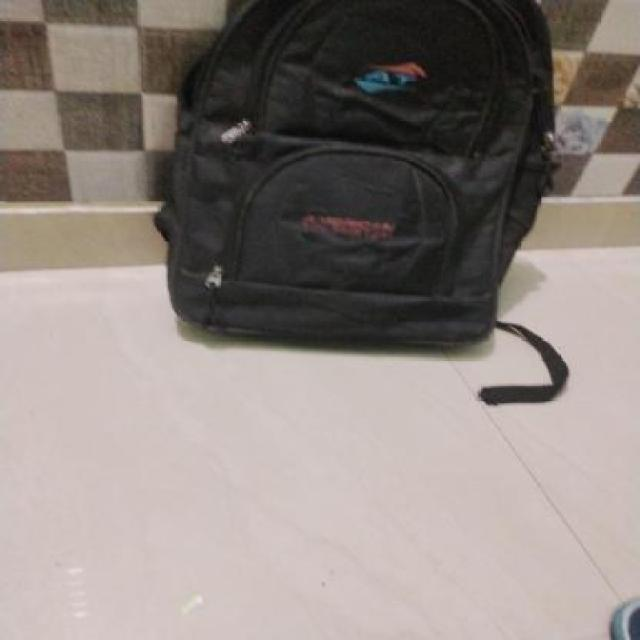backpack: (147, 0, 563, 355)
